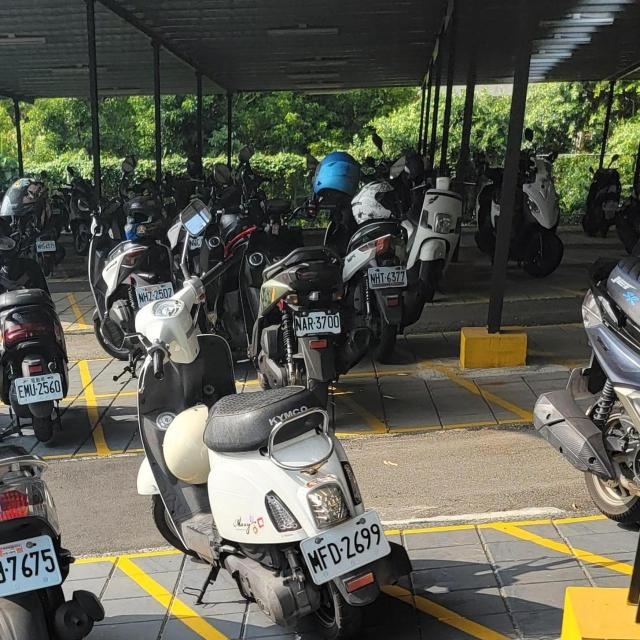W: (295, 509, 394, 585), (0, 534, 64, 603), (11, 372, 66, 406), (292, 308, 344, 337), (367, 263, 413, 290), (134, 281, 175, 306)
